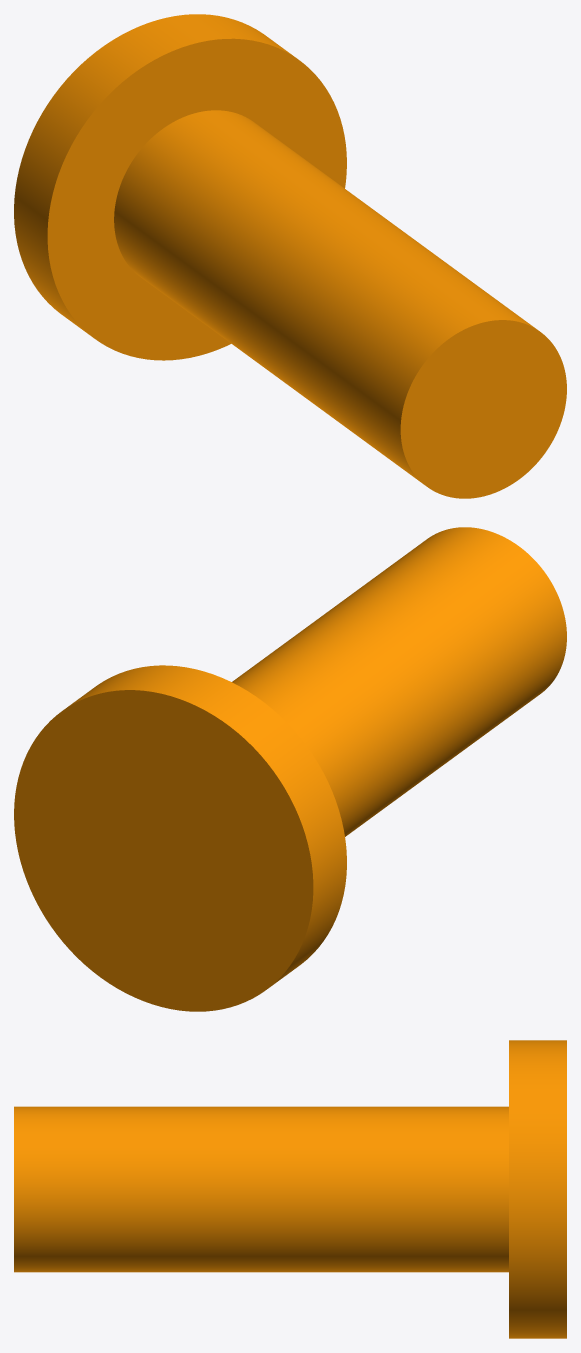
The model's file is assembly.glb.
3 views of the same model, one above another, from view 1: azimuth 30°, elevation 25°; view 2: azimuth 150°, elevation 25°; view 3: azimuth 270°, elevation 25° (orthographic). The views are drawn at different scales.
Visible parts, largest first — view 1: solid-rivet-3x10/body; view 2: solid-rivet-3x10/body; view 3: solid-rivet-3x10/body.
Part boxes in pixels (x1,y1,x2,y2): solid-rivet-3x10/body: (14, 14, 566, 498); solid-rivet-3x10/body: (14, 527, 566, 1011); solid-rivet-3x10/body: (14, 1040, 566, 1338).
Bounding box in the file's own units: 0.0054 × 0.0054 × 0.01.
